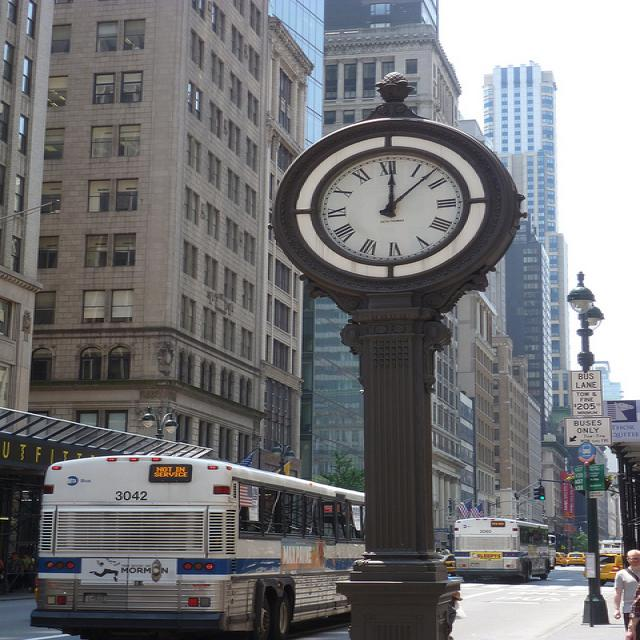Vehicle: (28, 454, 367, 640), (454, 520, 558, 582), (583, 554, 624, 586), (436, 549, 457, 576), (564, 552, 586, 567), (556, 552, 567, 567)
